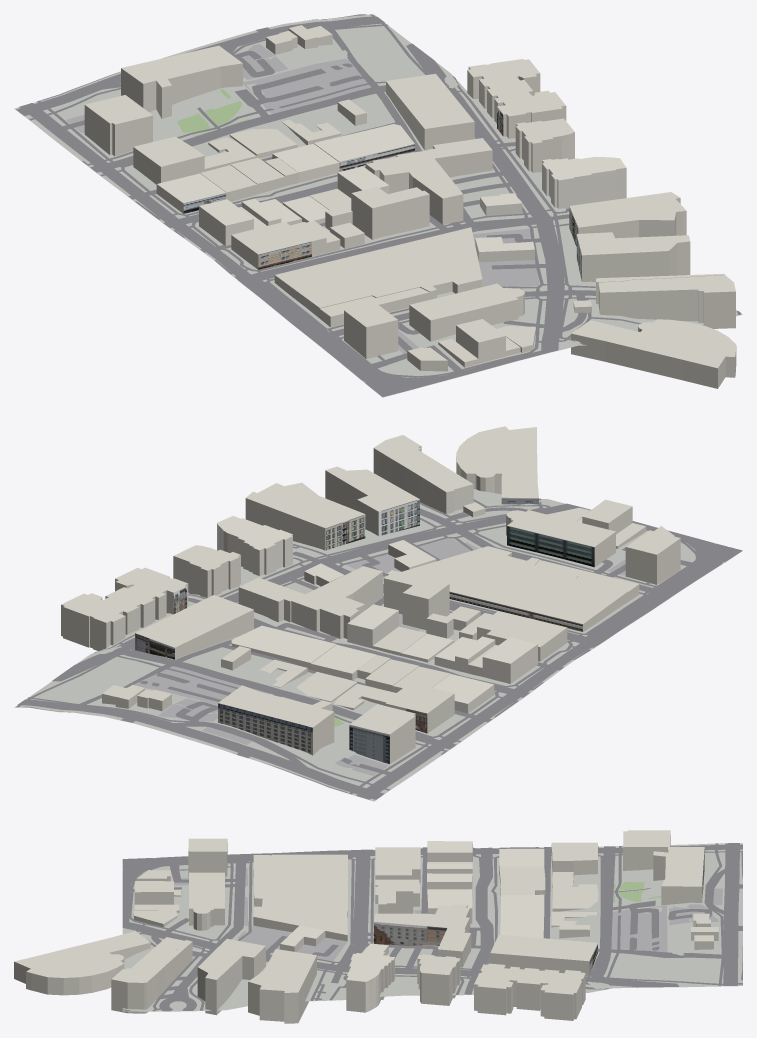
Rendered from central.glb.
The picture shows the model from 3 angles, top to bottom: view 1: azimuth 30°, elevation 25°; view 2: azimuth 150°, elevation 25°; view 3: azimuth 270°, elevation 25°; orthographic projection. The views are drawn at different scales.
Parts seen in each view (by area): view 1: roads, ground, bldg_563073616_Harborside_Garage, bldg_396448240_Kitsap_Conference_Center, bldg_396448191_Hampton_Inn_Suites_Breme, bldg_396448231_Fairfield_Inn_Suites_Bre, bldg_538431252_Norm_Dicks_Government_Ce, bldg_396448494_The_400_Condominiums, bldg_1378658596_Marina_Square, bldg_560819356_Washington_Garage, bldg_1378658595_Marina_Square, bldg_396448196_Kitsap_Credit_Union (+29 smaller); view 2: roads, ground, bldg_563073616_Harborside_Garage, bldg_396448494_The_400_Condominiums, bldg_396448231_Fairfield_Inn_Suites_Bre, bldg_396448240_Kitsap_Conference_Center, bldg_1378658595_Marina_Square, bldg_560819356_Washington_Garage, bldg_396448248_Harborside_Condominiums_, bldg_1378658596_Marina_Square, bldg_538431252_Norm_Dicks_Government_Ce, bldg_1469806712_Harborside_Flats (+35 smaller); view 3: roads, ground, bldg_563073616_Harborside_Garage, bldg_396448240_Kitsap_Conference_Center, bldg_396448494_The_400_Condominiums, bldg_1378658595_Marina_Square, bldg_1378658596_Marina_Square, bldg_560819356_Washington_Garage, bldg_538431252_Norm_Dicks_Government_Ce, bldg_396448231_Fairfield_Inn_Suites_Bre, bldg_396448248_Harborside_Condominiums_, bldg_396448191_Hampton_Inn_Suites_Breme (+33 smaller).
Part boxes in pixels (x1,y1,x2,y2): roads: (16, 14, 741, 397); ground: (14, 14, 742, 397); bldg_563073616_Harborside_Garage: (274, 227, 482, 317); bldg_396448240_Kitsap_Conference_Center: (571, 319, 736, 388); bldg_396448191_Hampton_Inn_Suites_Breme: (598, 275, 735, 328); bldg_396448231_Fairfield_Inn_Suites_Bre: (365, 138, 492, 224); bldg_538431252_Norm_Dicks_Government_Ce: (121, 45, 242, 118); bldg_396448494_The_400_Condominiums: (467, 59, 566, 138); bldg_1378658596_Marina_Square: (576, 232, 690, 281); bldg_560819356_Washington_Garage: (386, 73, 474, 150); bldg_1378658595_Marina_Square: (569, 192, 686, 238); bldg_396448196_Kitsap_Credit_Union: (409, 283, 524, 341); roads: (16, 498, 742, 799); ground: (14, 489, 742, 801); bldg_563073616_Harborside_Garage: (401, 546, 628, 631); bldg_396448494_The_400_Condominiums: (61, 567, 188, 651); bldg_396448231_Fairfield_Inn_Suites_Bre: (238, 566, 382, 638); bldg_396448240_Kitsap_Conference_Center: (456, 426, 538, 497); bldg_1378658595_Marina_Square: (245, 482, 364, 550); bldg_560819356_Washington_Garage: (135, 595, 253, 659); bldg_396448248_Harborside_Condominiums_: (217, 516, 292, 575); bldg_1378658596_Marina_Square: (325, 466, 419, 535); bldg_538431252_Norm_Dicks_Government_Ce: (218, 685, 334, 754); bldg_1469806712_Harborside_Flats: (384, 570, 449, 629); roads: (122, 843, 742, 1011); ground: (122, 843, 742, 1011); bldg_563073616_Harborside_Garage: (253, 854, 347, 941); bldg_396448240_Kitsap_Conference_Center: (14, 931, 150, 995); bldg_396448494_The_400_Condominiums: (474, 963, 585, 1020); bldg_1378658595_Marina_Square: (248, 949, 316, 1023); bldg_1378658596_Marina_Square: (197, 938, 265, 1015); bldg_560819356_Washington_Garage: (490, 934, 597, 975); bldg_538431252_Norm_Dicks_Government_Ce: (653, 847, 704, 905); bldg_396448231_Fairfield_Inn_Suites_Bre: (374, 904, 471, 967); bldg_396448248_Harborside_Condominiums_: (346, 953, 394, 1012); bldg_396448191_Hampton_Inn_Suites_Breme: (111, 937, 184, 1013).
Size of the model in its own units: 277 by 42.19 by 502.
86 materials, 15 textured.
